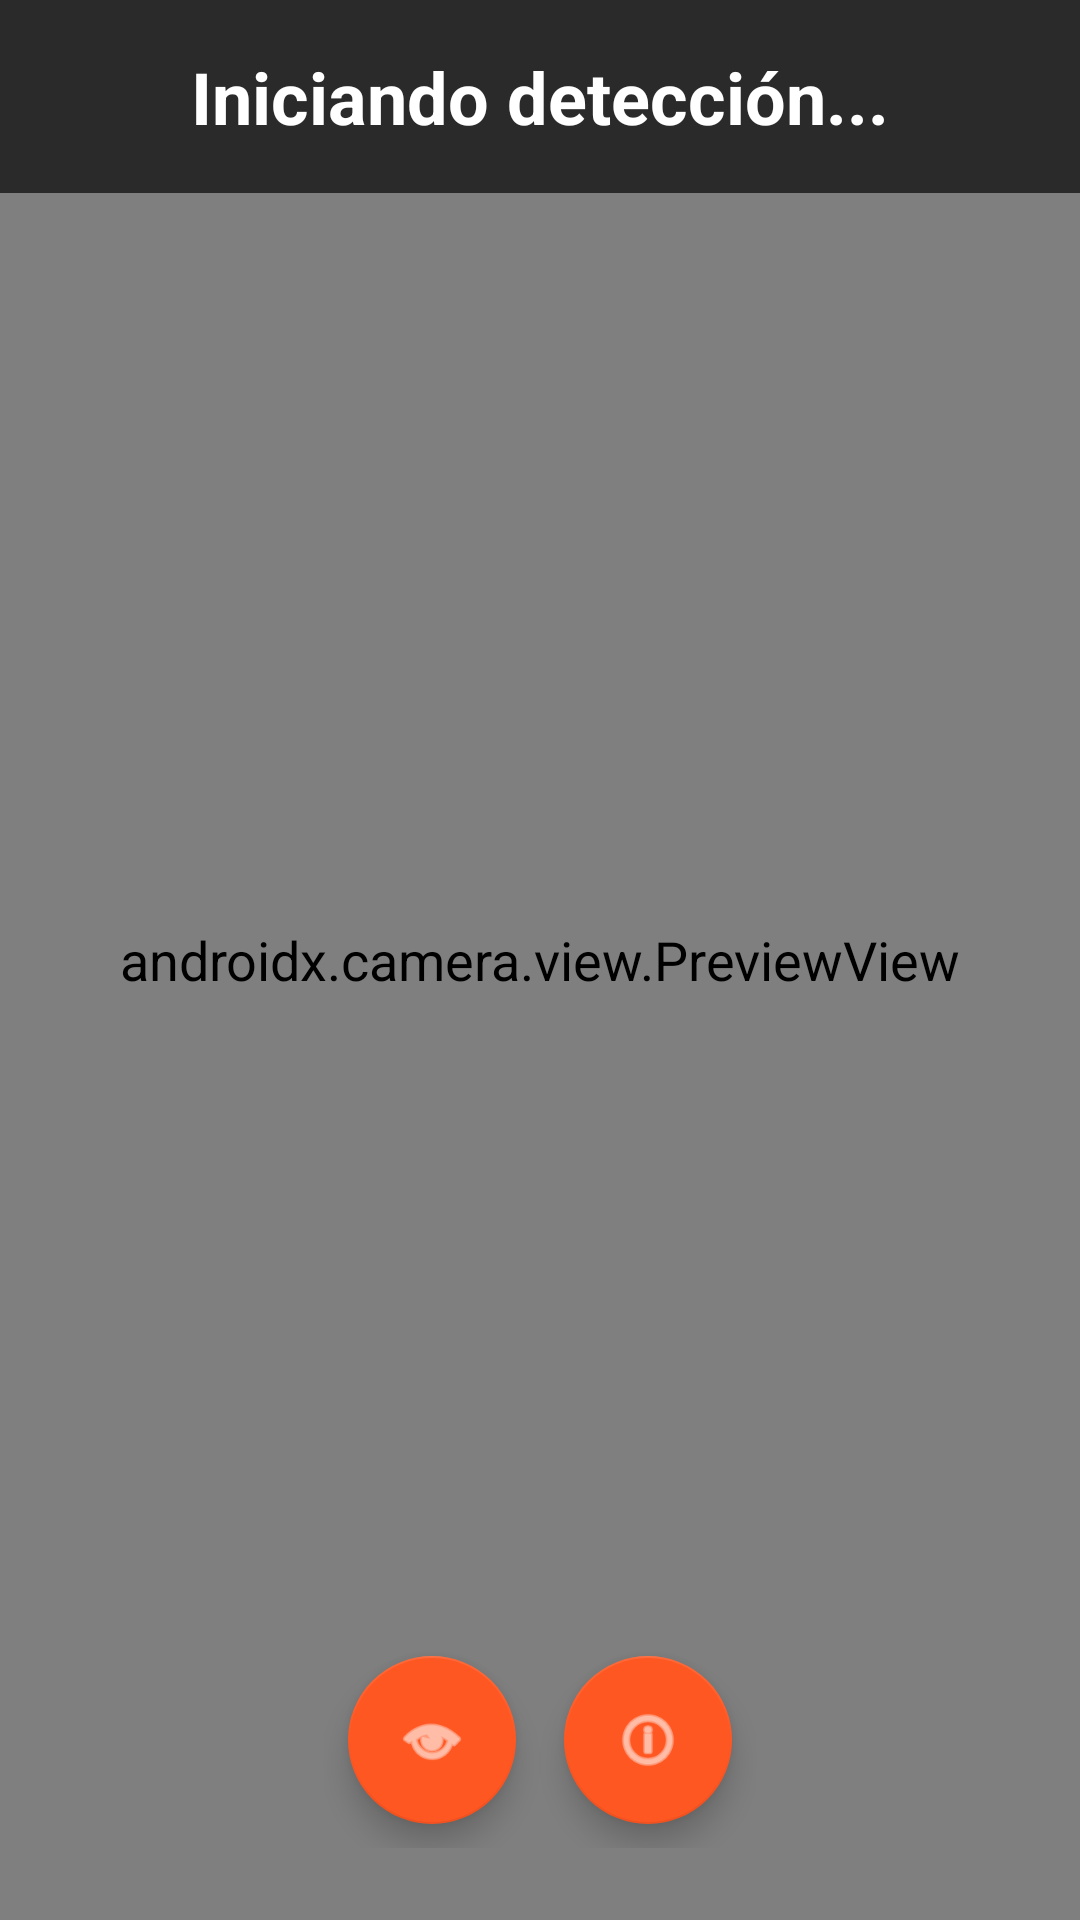

Where icons sit on this 1080×1920 app screen, as (x1, y1, x2, y2):
Detectar objetos: (348, 1656, 516, 1824)
